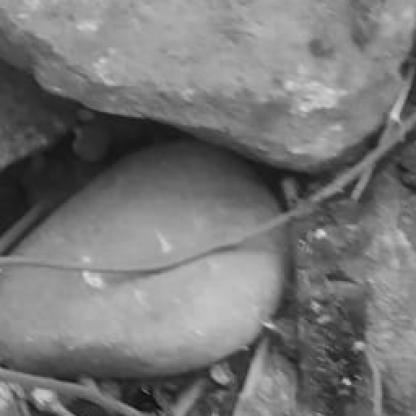wires: (2, 115, 414, 272)
